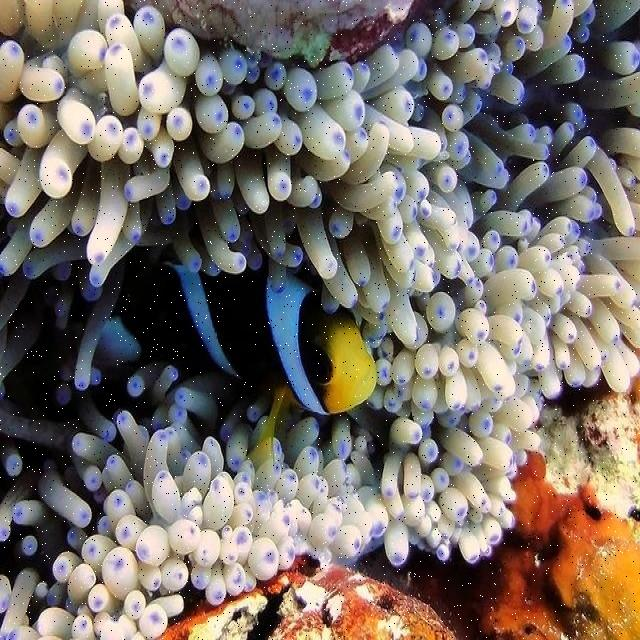fish: (92, 262, 377, 470)
reefs: (0, 0, 638, 639), (474, 369, 639, 639), (156, 553, 495, 639)
